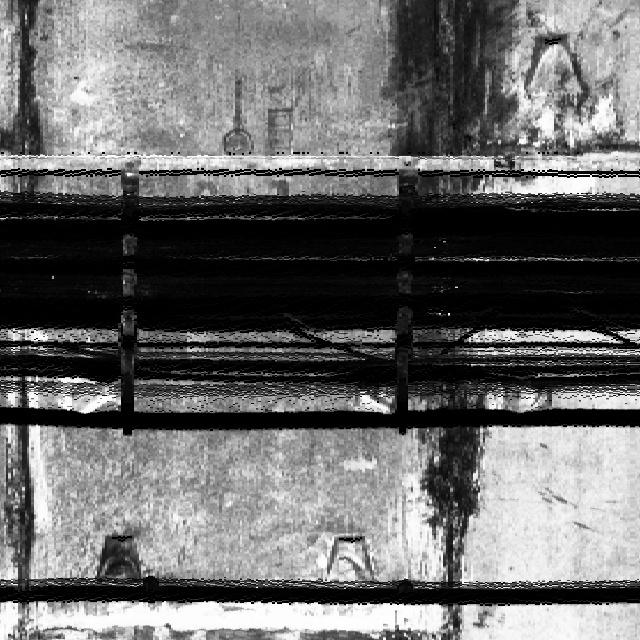leakage: (376, 0, 523, 192), (412, 323, 490, 634), (0, 370, 51, 639), (2, 0, 49, 192)
